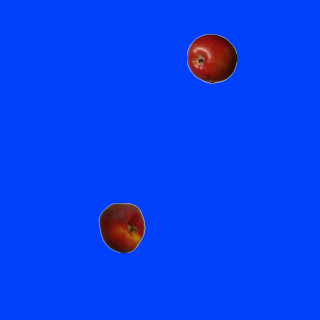Apple Braeburn: (186, 33, 236, 83)
Nectarine Flat: (96, 202, 146, 252)
